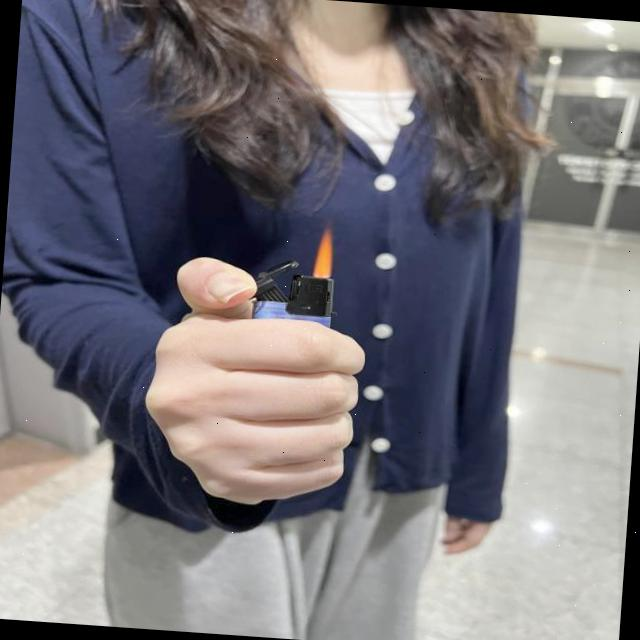fire: (309, 228, 336, 278)
